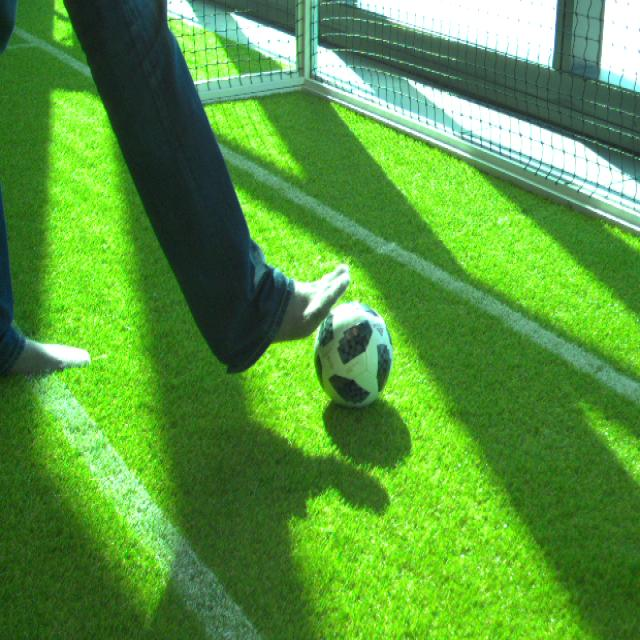ball: (314, 303, 392, 407)
